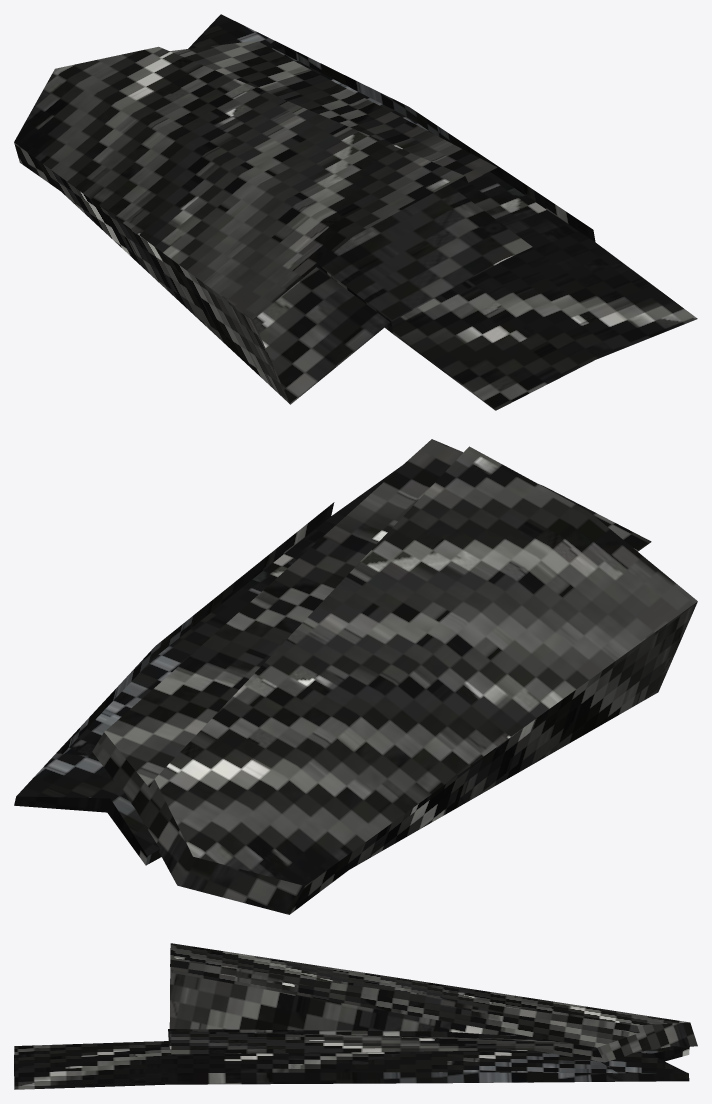
3 views of the same model, one above another, from view 1: azimuth 30°, elevation 25°; view 2: azimuth 150°, elevation 25°; view 3: azimuth 270°, elevation 25° (orthographic). The views are drawn at different scales.
Visible parts, largest first — view 1: engine_blade_16_f35_ext_3_0; view 2: engine_blade_16_f35_ext_3_0; view 3: engine_blade_16_f35_ext_3_0.
Boxes of the visible parts, x1,y1,x2,y2 form: engine_blade_16_f35_ext_3_0: (14,14,697,410); engine_blade_16_f35_ext_3_0: (14,439,697,914); engine_blade_16_f35_ext_3_0: (14,943,697,1089).
Size of the model in its own units: 36.62 by 18.85 by 80.62.
Materials: 1 (1 with a texture image).
